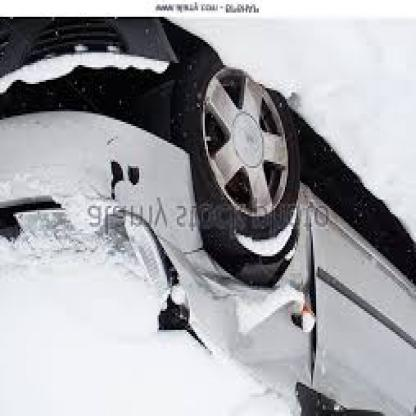dent: (226, 278, 322, 366), (139, 262, 221, 356), (0, 189, 77, 250), (99, 154, 155, 206)
